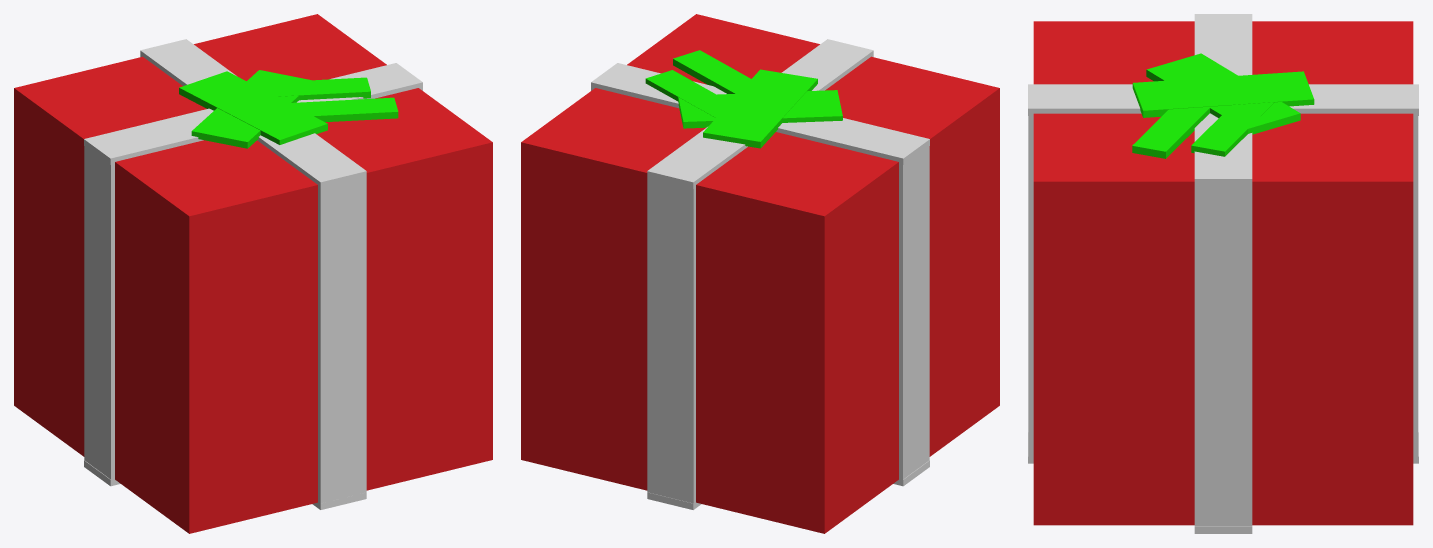
File: prezent1.fbx
3 views of the same model, side by side, from view 1: azimuth 30°, elevation 25°; view 2: azimuth 150°, elevation 25°; view 3: azimuth 270°, elevation 25° (orthographic). The views are drawn at different scales.
Visible parts, largest first — view 1: Cube.003; view 2: Cube.003; view 3: Cube.003.
Boxes of the visible parts, x1=… form: Cube.003: x1=14, y1=14, x2=492, y2=533; Cube.003: x1=521, y1=14, x2=999, y2=533; Cube.003: x1=1028, y1=14, x2=1418, y2=533.
Bounding box in the file's own units: 103 × 105 × 103.
